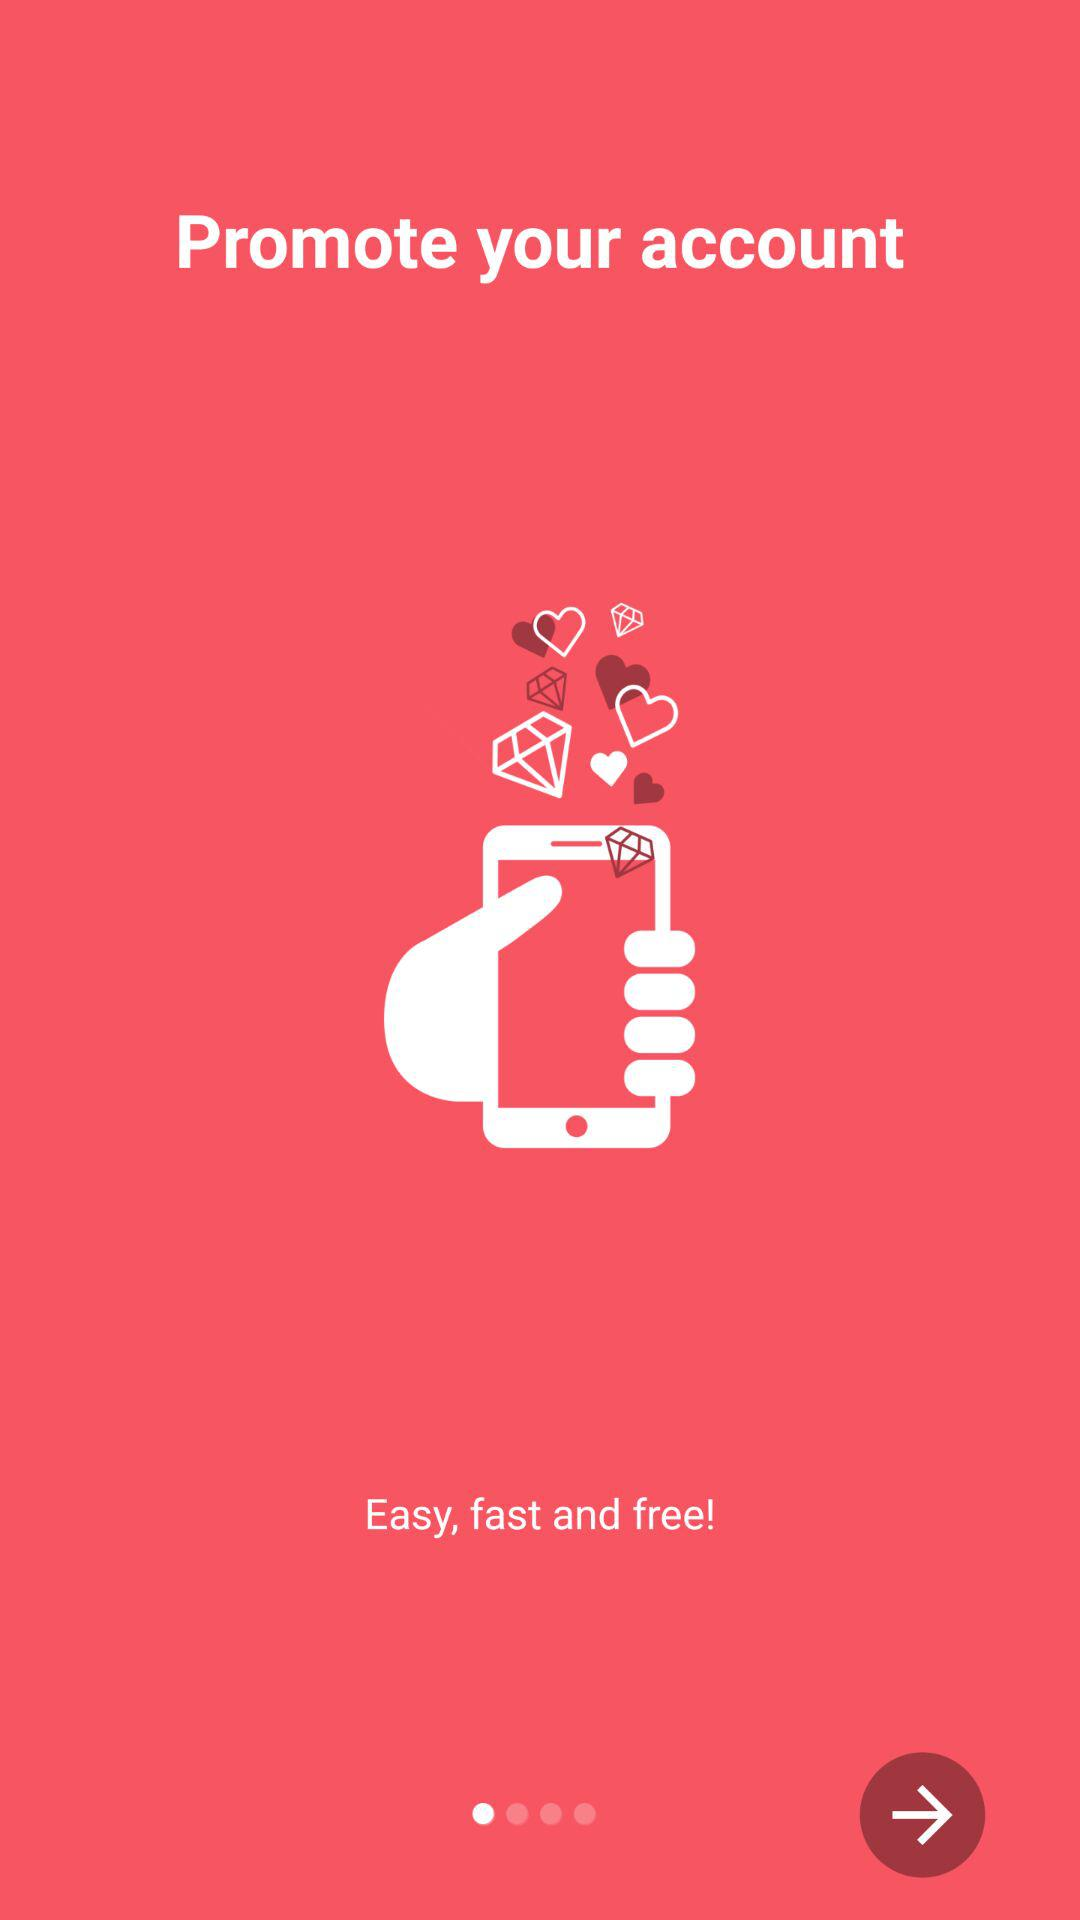Icon: (858, 1753, 986, 1879)
Image: (384, 603, 698, 1149)
PageIndicator: (471, 1801, 597, 1826)
Text: (178, 215, 905, 286), (367, 1495, 713, 1540)
